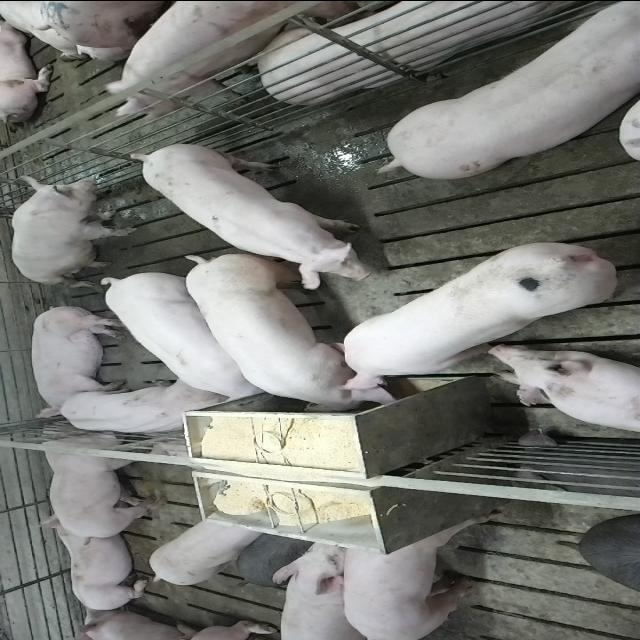Feeding: (334, 239, 620, 390), (178, 254, 398, 420)
Lateral_lying: (258, 0, 600, 101), (28, 302, 128, 419)
Sitting: (8, 174, 138, 285)
Standing: (382, 0, 640, 176), (128, 140, 388, 288), (104, 0, 353, 118), (96, 266, 268, 400), (342, 514, 498, 639), (36, 422, 174, 542), (275, 538, 415, 640), (149, 514, 263, 588), (236, 532, 318, 590)
Sternal_lying: (487, 345, 640, 433), (32, 522, 152, 612), (53, 378, 227, 436)
